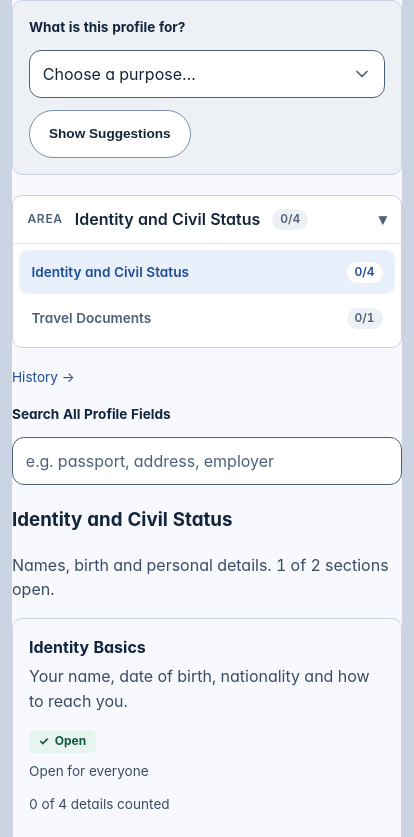
the list of profile areas › gives a phone one "Area" box showing the current area, which opens the same list and closes when one is chosen
Expected: the heading "Area Identity and Civil Status 0/4" is shown, left=13, top=196, right=401, bottom=244
Expected: the text "Identity and Civil Status" next to "Area" is shown, left=75, top=209, right=260, bottom=229
Click the button "Travel Documents 0/1" at (91, 318), box left=19, top=296, right=395, bottom=340
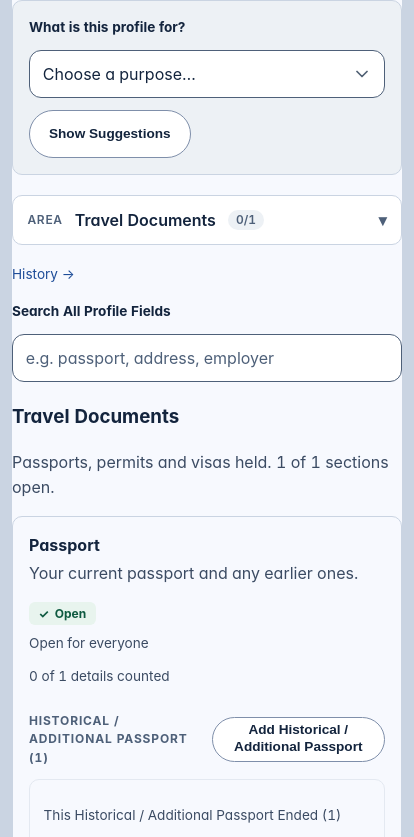
Expected: the text "Travel Documents" is shown, left=75, top=208, right=216, bottom=232
